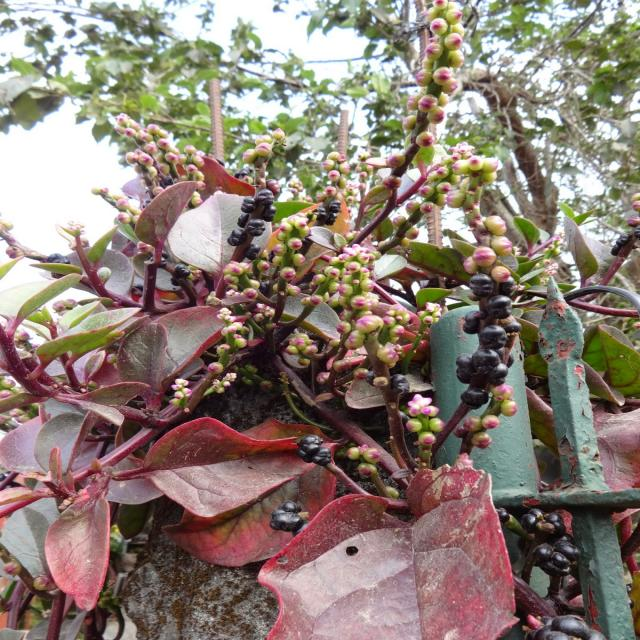Medicinal-Basale: (68, 8, 575, 512)
